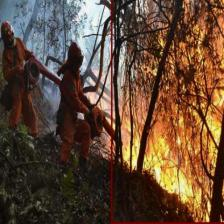fire: (110, 0, 224, 223)
